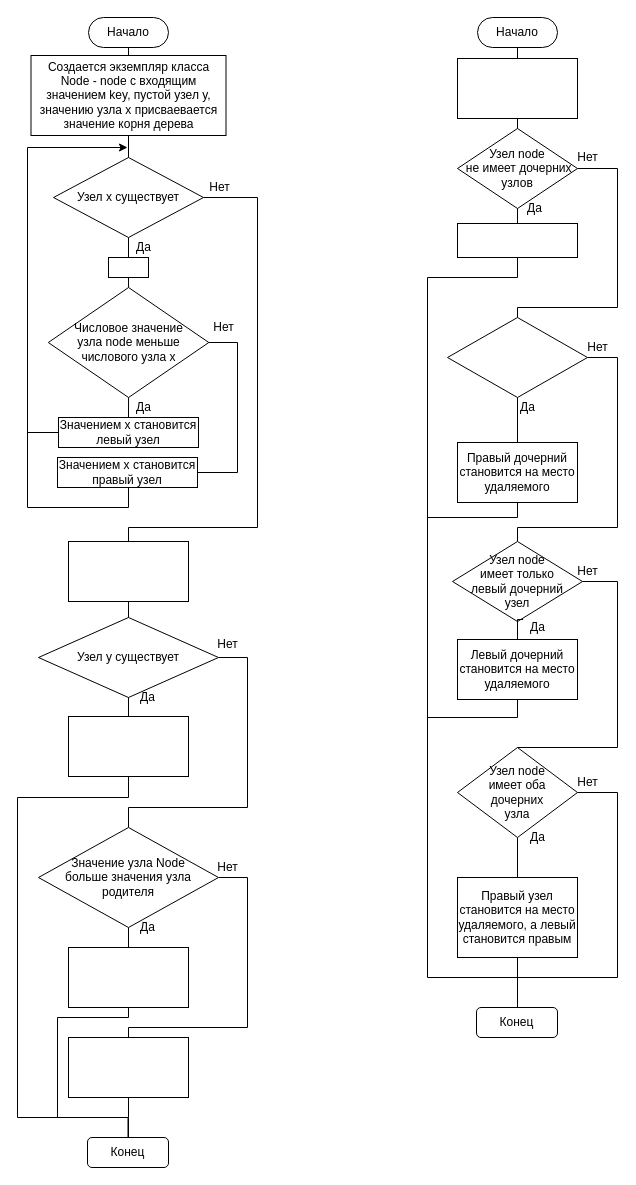
This 636x1185 diagram has some shape labels left out. The centre of each missing label's shape, as x and y in pixels:
"Значению node присваевается null" goes at (x=517, y=240).
"На вход подается экземпляр класса Node - node" goes at (x=517, y=88).
"Узел node имеет только правый дочерний узел" goes at (x=517, y=357).
"Узел Node становится корнем" goes at (x=128, y=746).
"Узел Node становится левым узлом" goes at (x=128, y=977).
"Узел Node становится правым узлом" goes at (x=128, y=1067).
"Узел у становится родителем узла Node" goes at (x=128, y=571).
"х = у" goes at (x=128, y=267).
